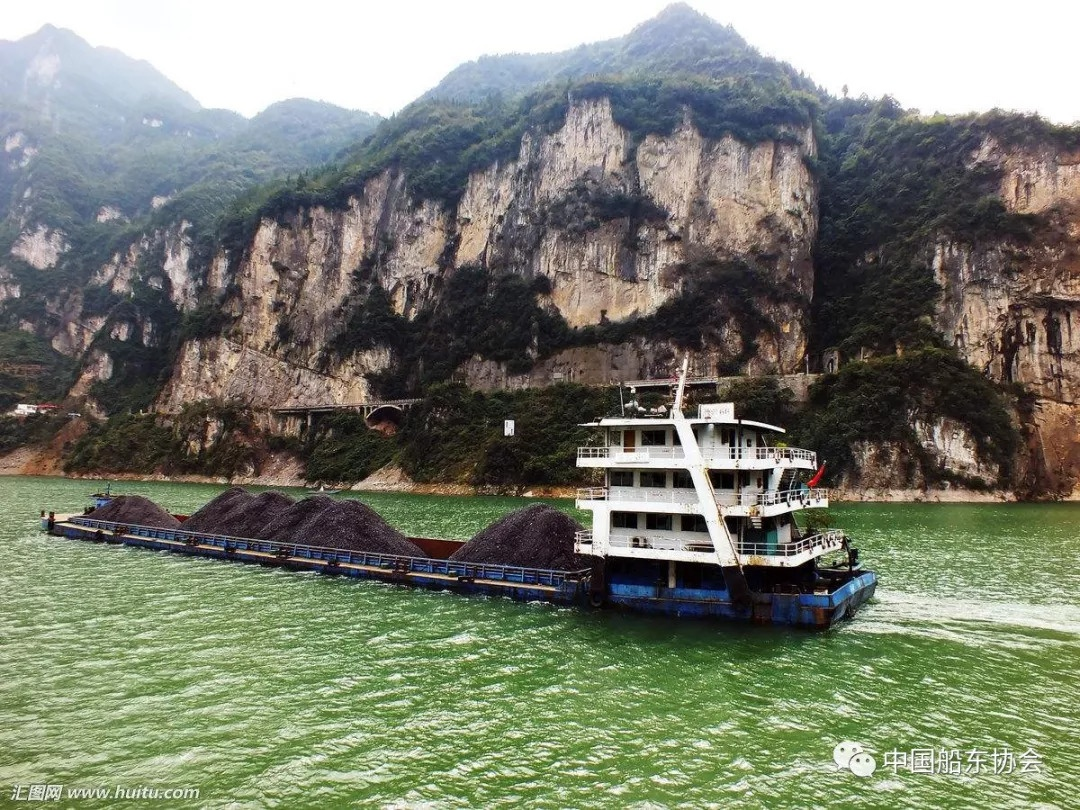Cargoship: (34, 349, 886, 632)
